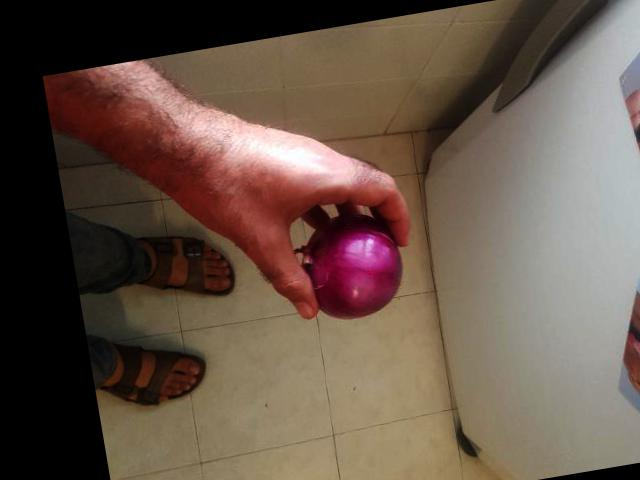onion: (285, 200, 412, 328)
